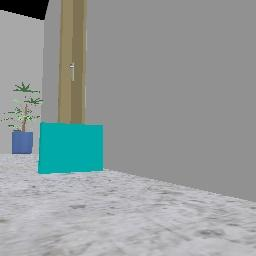planta: (0, 82, 40, 153)
turcoaz: (39, 122, 102, 173)
